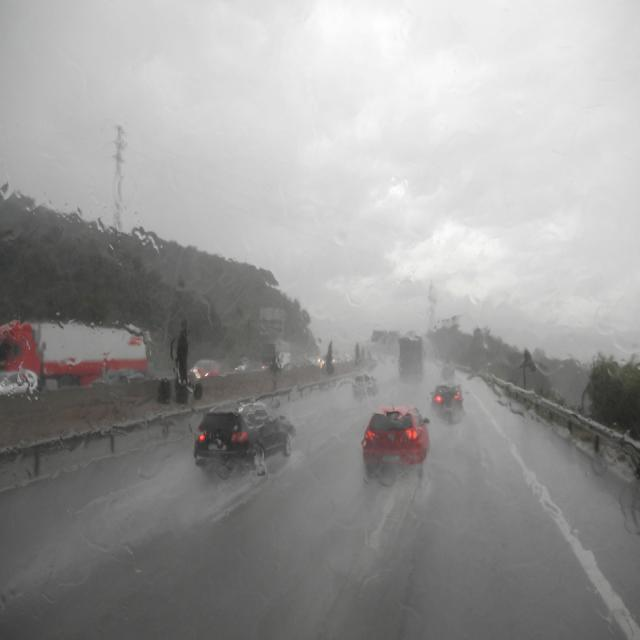bus: (1, 324, 150, 390), (399, 334, 423, 380)
car: (196, 395, 296, 481), (360, 406, 431, 470), (430, 379, 464, 422), (188, 357, 222, 377), (350, 376, 376, 399)
truck: (260, 339, 290, 367)
